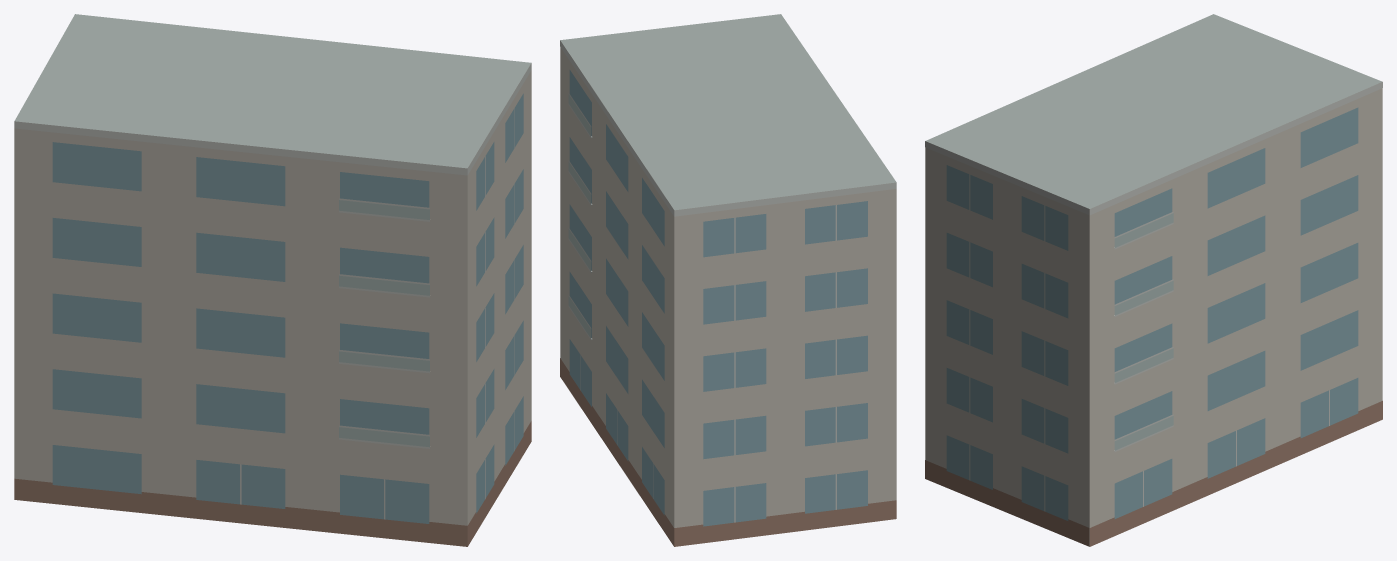
Rendered from survey-upis-33010822.glb.
3 renders of one model, left to right at view 1: azimuth 30°, elevation 25°; view 2: azimuth 150°, elevation 25°; view 3: azimuth 270°, elevation 25°, orthographic. The views are drawn at different scales.
Parts seen in each view (by area): view 1: survey-upis-33010822.tmp; view 2: survey-upis-33010822.tmp; view 3: survey-upis-33010822.tmp.
Boxes of the visible parts, x1,y1,x2,y2 form: survey-upis-33010822.tmp: (14,14,531,546); survey-upis-33010822.tmp: (560,14,896,546); survey-upis-33010822.tmp: (925,14,1382,546).
Size of the model in its own units: 16.11 by 13 by 15.97.
